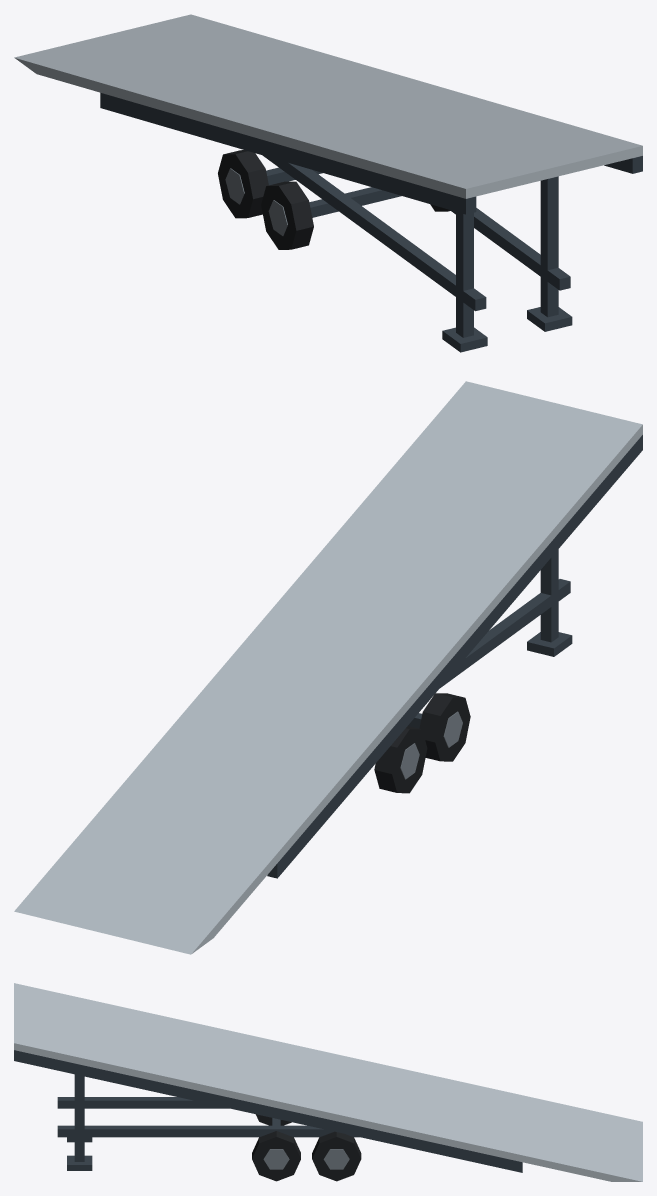
The model's file is ramp-trailer.glb.
3 renders of one model, top to bottom at view 1: azimuth 30°, elevation 25°; view 2: azimuth 150°, elevation 25°; view 3: azimuth 270°, elevation 25°, orthographic. The views are drawn at different scales.
Parts seen in each view (by area): view 1: ramp_surface, trailer, wheel_4, wheel_2; view 2: ramp_surface, trailer, wheel_4, wheel_2; view 3: ramp_surface, trailer, wheel_1, wheel_3.
Boxes of the visible parts, x1,y1,x2,y2 form: ramp_surface: (14, 14, 642, 198); trailer: (100, 92, 642, 352); wheel_4: (261, 181, 313, 249); wheel_2: (218, 150, 268, 218); ramp_surface: (14, 381, 642, 954); trailer: (267, 435, 642, 878); wheel_4: (419, 693, 470, 761); wheel_2: (374, 726, 427, 793); ramp_surface: (14, 983, 642, 1181); trailer: (14, 1050, 522, 1172); wheel_1: (312, 1131, 361, 1181); wheel_3: (252, 1131, 300, 1181).
Size of the model in its own units: 2.6 by 2.8 by 11.5.
